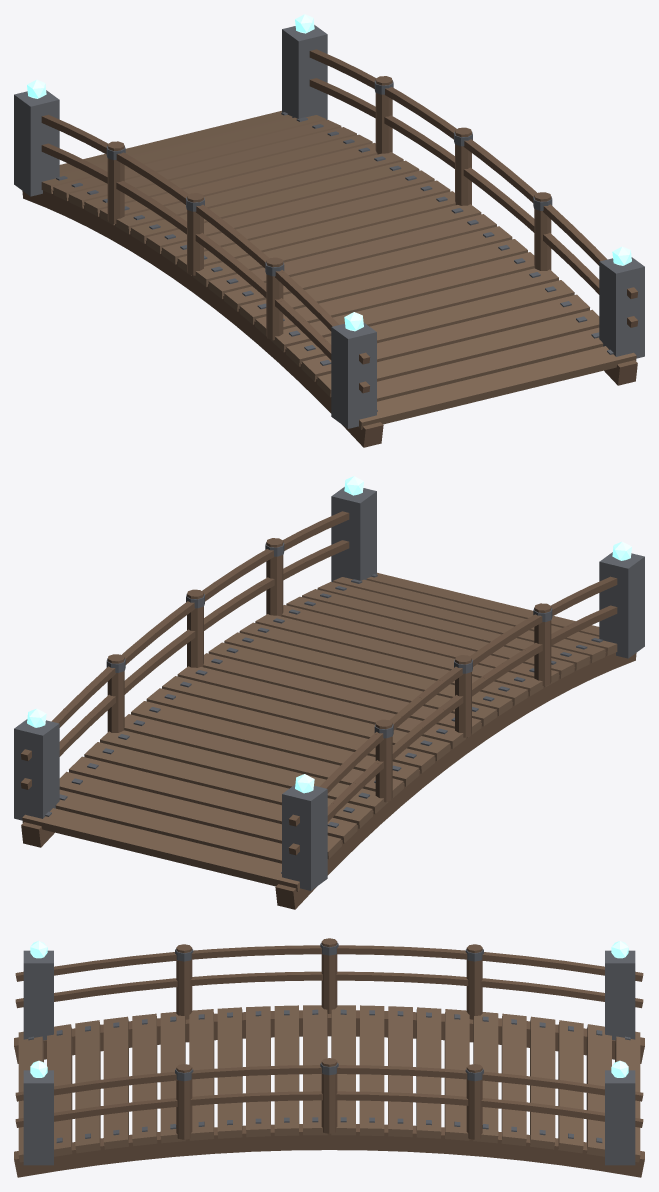
File: wooden_bridge_detailed.glb
3 views of the same model, one above another, from view 1: azimuth 30°, elevation 25°; view 2: azimuth 150°, elevation 25°; view 3: azimuth 270°, elevation 25° (orthographic). The views are drawn at different scales.
Parts seen in each view (by area): view 1: Cube.032, Cube.038, Cube.035, Cube.041, Cube.053, Cube.044, Cube.047, Cube.050, Cube.056, Cube.098, Cube.059, Cube.099 (+21 smaller); view 2: Cube.095, Cube.089, Cube.092, Cube.086, Cube.074, Cube.083, Cube.080, Cube.077, Cube.071, Cube.100, Cube.068, Cube.101 (+21 smaller); view 3: Cube.053, Cube.074, Cube.041, Cube.086, Cube.038, Cube.089, Cube.059, Cube.068, Cube.044, Cube.083, Cube.099, Cube.101 (+76 smaller).
Part boxes in pixels (x1,y1,x2,y2): Cube.032: (358,346,636,429); Cube.038: (317,309,599,397); Cube.035: (377,327,603,401); Cube.041: (301,294,589,381); Cube.053: (239,239,527,324); Cube.044: (286,280,574,366); Cube.047: (270,268,558,352); Cube.050: (255,252,534,336); Cube.056: (224,226,512,311); Cube.098: (331,322,376,428); Cube.059: (208,214,496,298); Cube.099: (599,257,644,358); Cube.095: (22,808,300,891); Cube.089: (59,771,341,859); Cube.092: (55,789,281,863); Cube.086: (69,756,357,843); Cube.074: (131,701,419,786); Cube.083: (84,742,372,828); Cube.080: (100,730,388,814); Cube.077: (124,714,403,798); Cube.071: (146,688,434,773); Cube.100: (282,784,327,890); Cube.068: (162,676,450,760); Cube.101: (14,719,59,820); Cube.053: (217,1007,242,1138); Cube.074: (416,1007,441,1138); Cube.041: (103,1016,128,1149); Cube.086: (530,1016,555,1149); Cube.038: (75,1020,100,1153); Cube.089: (558,1020,583,1153); Cube.059: (274,1005,299,1135); Cube.068: (359,1005,384,1135); Cube.044: (132,1013,157,1145); Cube.083: (501,1013,526,1145); Cube.099: (23,1070,53,1165); Cube.101: (605,1070,635,1165).
Size of the model in its own units: 4.32 by 1.77 by 8.68.
